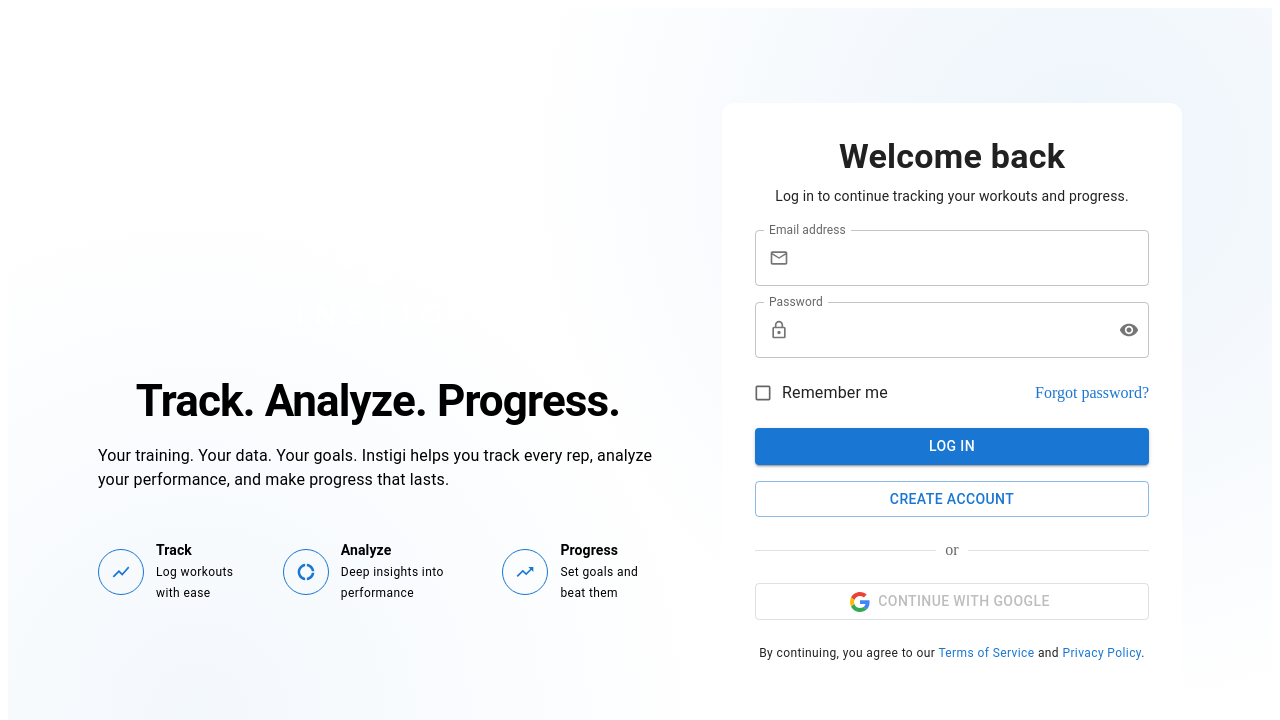
Test: AuthPage › renders the friendly message on 401 INVALID_CREDENTIALS
Type "a@b.com" into the field labelled "Email address" at (973, 258), box [797,230,1149,286]
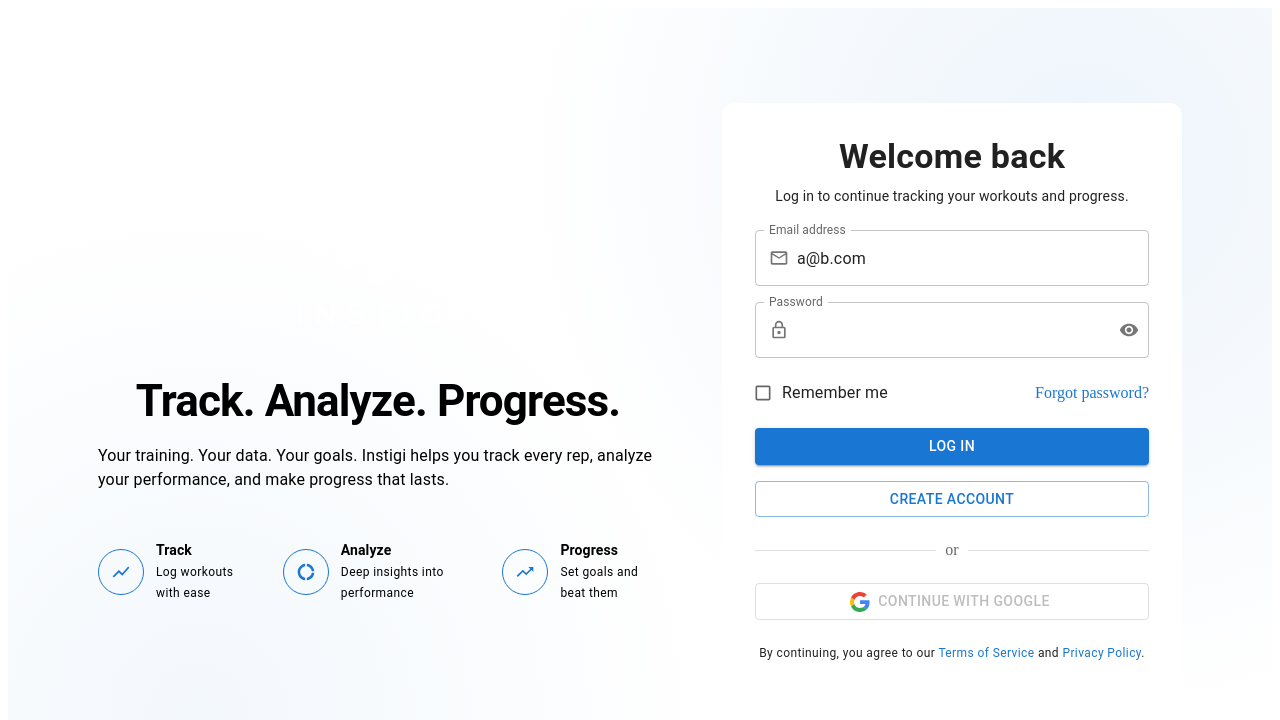
Type "password123" into the password field labelled "Password" at (950, 330), box [797,302,1103,358]
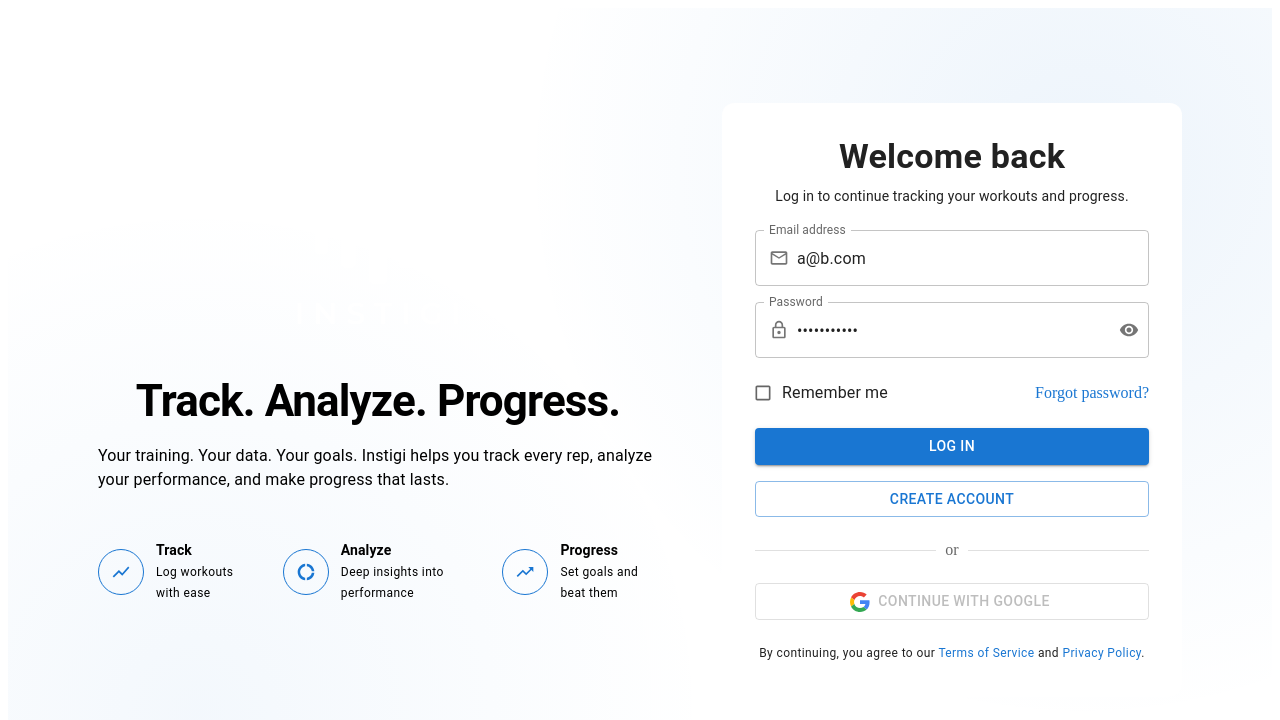
Click the button "Log in" at (952, 447), box [755,428,1149,465]
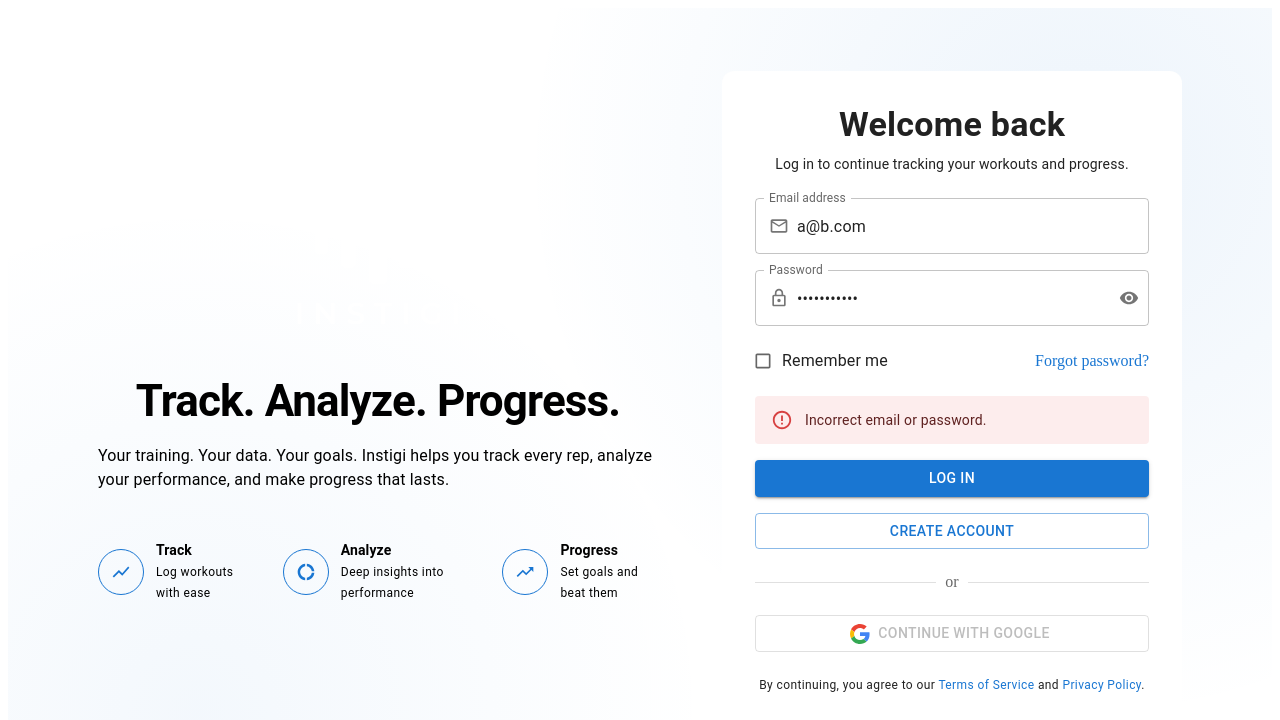
Expected: the text "Incorrect email or password." is shown, [805,412,987,428]
